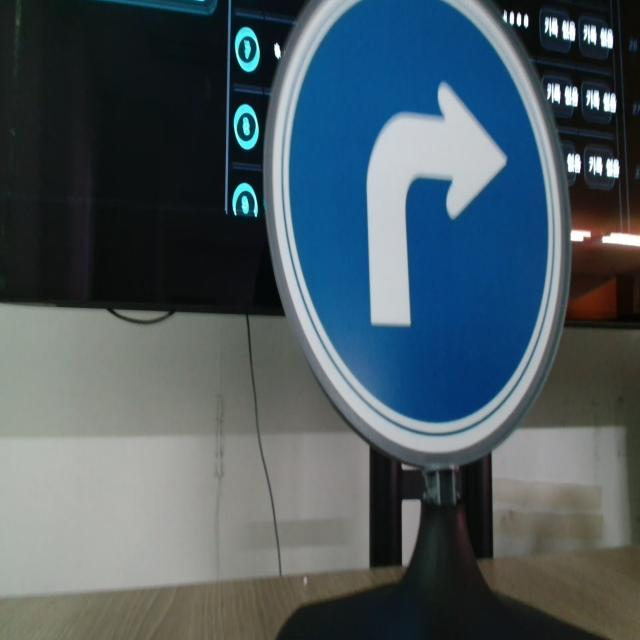right_dierection: (263, 1, 573, 468)
